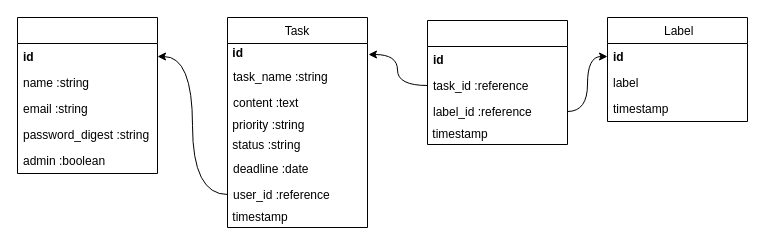
This 765x245 diagram has some shape labels left out. Each missing label, with the box of its shape:
IntermediaryTaskLabel: (426, 20, 568, 144)
User: (16, 16, 158, 174)
